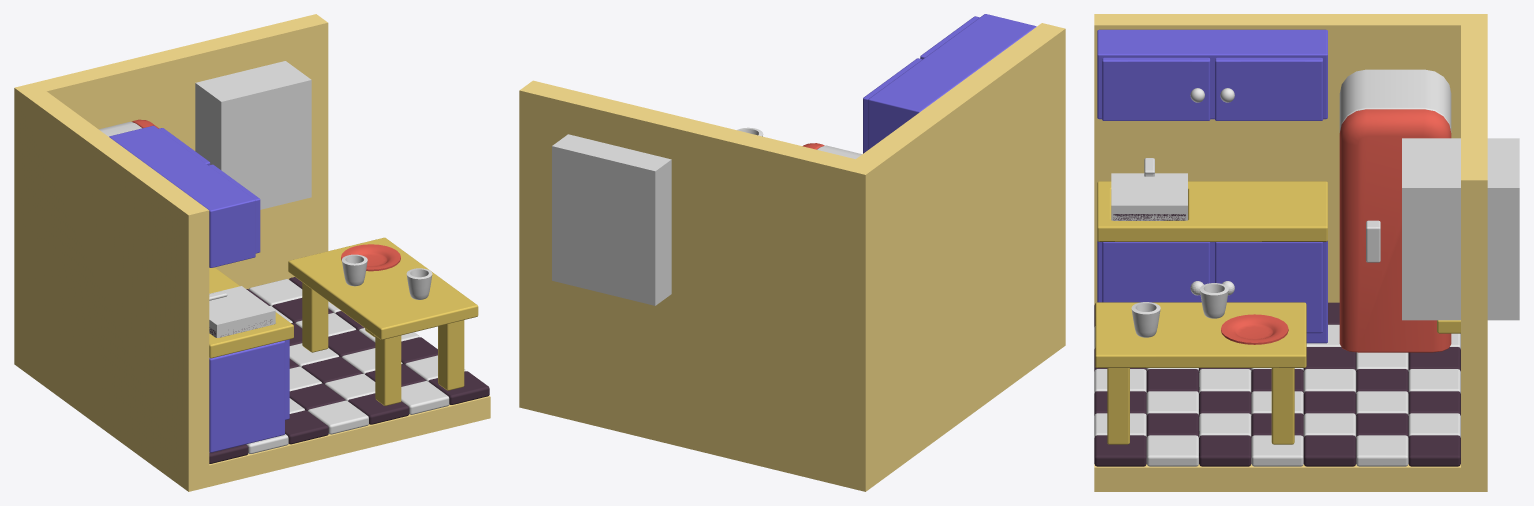
File: 019-kitchen.fbx
3 views of the same model, side by side, from view 1: azimuth 30°, elevation 25°; view 2: azimuth 150°, elevation 25°; view 3: azimuth 270°, elevation 25° (orthographic). The views are drawn at different scales.
Visible parts, largest first — view 1: Plane, Plane.001, Cube.004, Plane.009, Plane.007, Plane.002, Plane.010, Cube, Plane.003, Circle.002, Plane.008, Circle.001 (+1 smaller); view 2: Plane, Cube.004, Plane.007, Plane.008; view 3: Plane, Plane.001, Plane.005, Cube.004, Plane.008, Plane.006, Plane.009, Plane.003, Plane.007, Plane.004, Cube, Plane.010 (+5 smaller).
Boxes of the visible parts, box(x1,y1,x2,y2) form: Plane: box(14, 14, 490, 491); Plane.001: box(209, 277, 489, 463); Cube.004: box(195, 61, 311, 209); Plane.009: box(288, 237, 478, 339); Plane.007: box(109, 125, 255, 267); Plane.002: box(209, 340, 284, 452); Plane.010: box(302, 282, 464, 405); Cube: box(209, 286, 275, 337); Plane.003: box(209, 267, 293, 358); Circle.002: box(341, 244, 400, 271); Plane.008: box(158, 128, 260, 253); Circle.001: box(342, 254, 367, 286); Plane: box(519, 23, 1065, 491); Cube.004: box(552, 134, 671, 305); Plane.007: box(868, 14, 1036, 149); Plane.008: box(863, 16, 979, 153); Plane: box(1094, 14, 1487, 491); Plane.001: box(1094, 302, 1460, 466); Plane.005: box(1339, 109, 1451, 352); Cube.004: box(1402, 138, 1519, 320); Plane.008: box(1102, 57, 1323, 120); Plane.006: box(1102, 242, 1323, 333); Plane.009: box(1095, 302, 1306, 367); Plane.003: box(1097, 181, 1327, 241); Plane.007: box(1097, 29, 1327, 119); Plane.004: box(1339, 69, 1451, 132); Cube: box(1111, 173, 1187, 220); Plane.010: box(1107, 368, 1294, 444).
Size of what is drawn, in the model's own units: 800 by 700 by 865.
